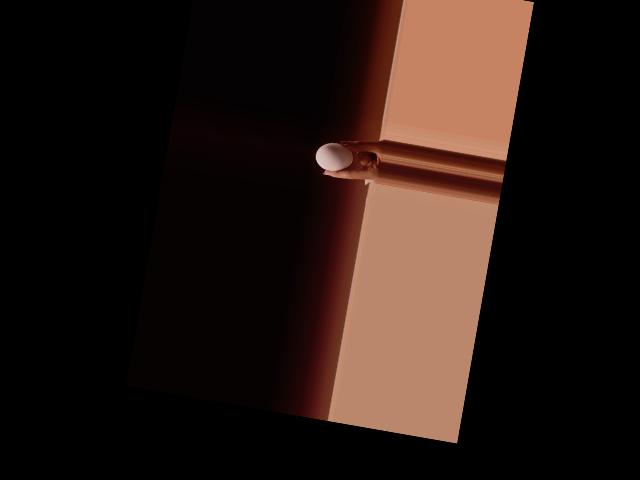egg: (314, 139, 356, 174)
